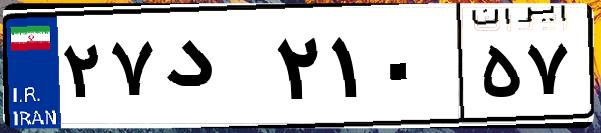0: (385, 28, 445, 110)
1: (330, 28, 385, 110)
2: (270, 28, 330, 110), (57, 26, 110, 100)
5: (475, 38, 525, 113)
7: (525, 38, 570, 115), (110, 28, 158, 98)
د: (158, 20, 270, 120)
